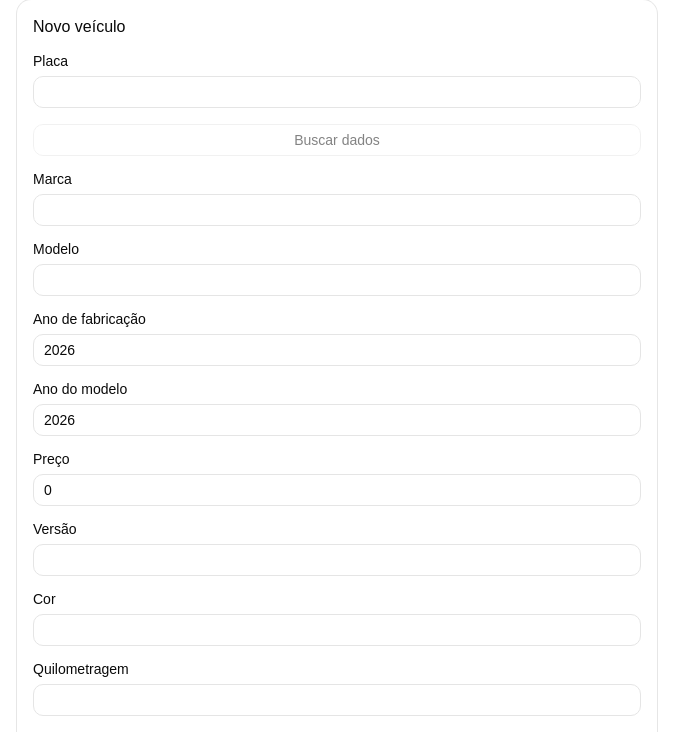
Test case: VeiculoFormPage — cadastro › mostra erro de validação quando falta a marca
Type "Civic" into the field labelled "Modelo" at (337, 280), box [33,264,641,296]
(page scrolled)
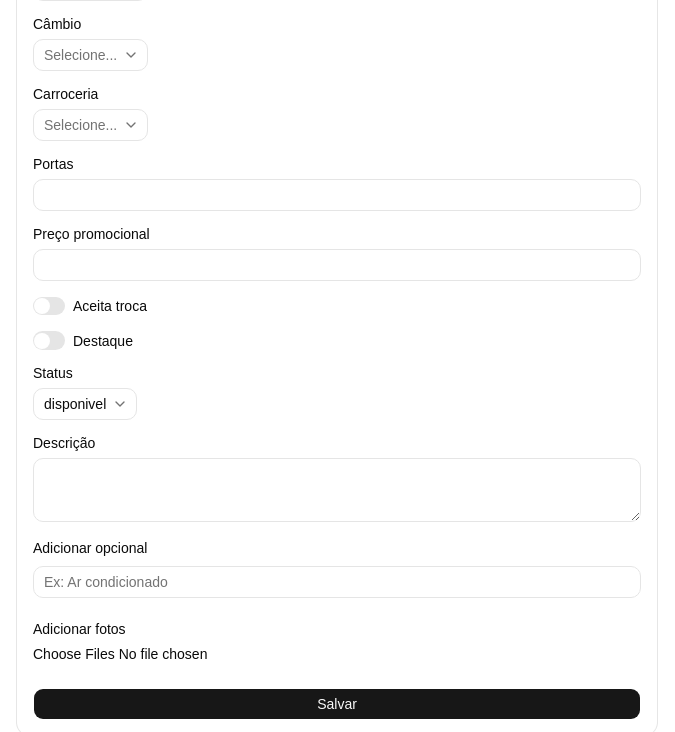
Click the button "Salvar" at (337, 704), box [33,688,641,720]
(page scrolled)
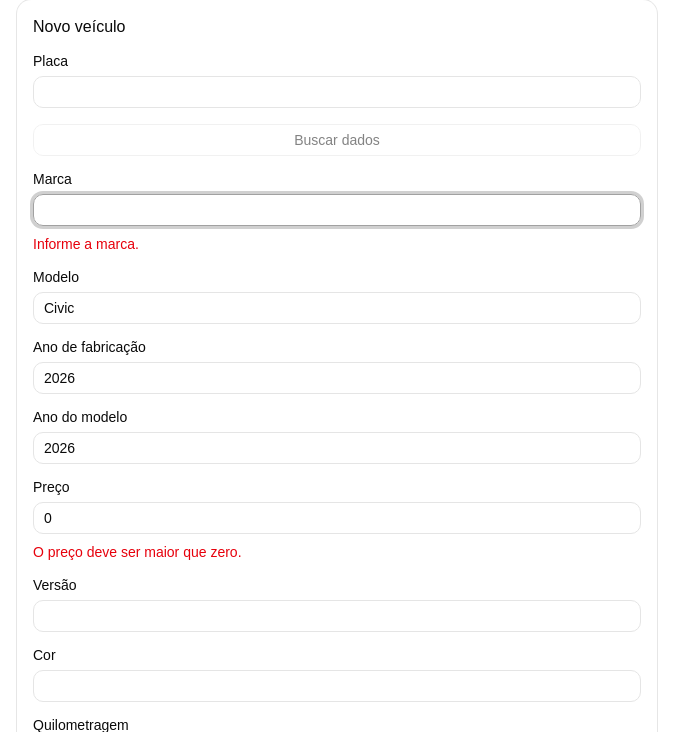
Now the text "Informe a marca." is shown, box [33,236,139,252]
